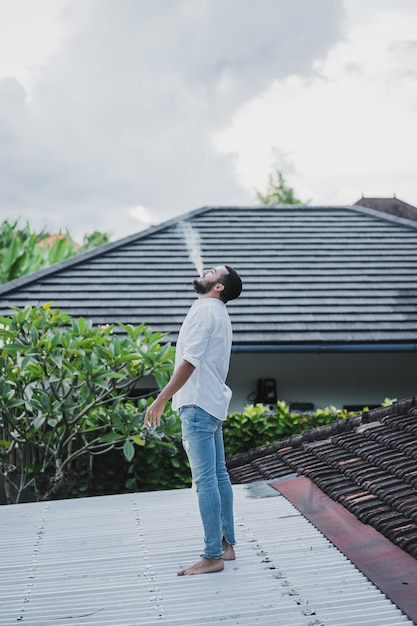cigarette: (145, 419, 152, 428)
